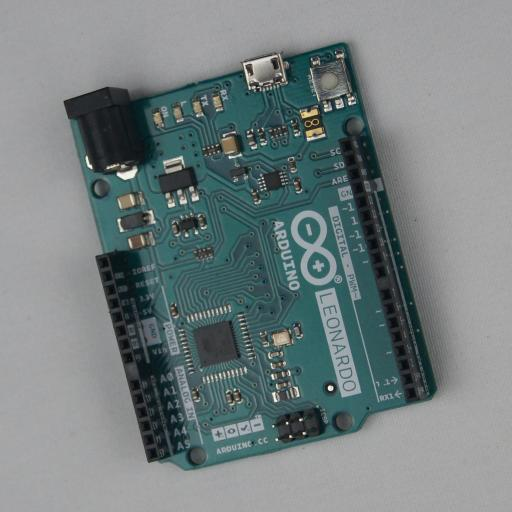Arduino Leonardo: (64, 42, 444, 471)
